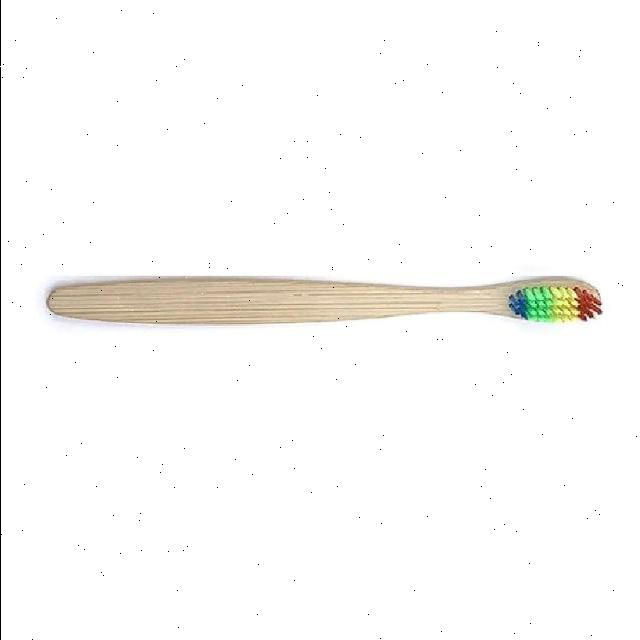toothbrush: (31, 236, 628, 372)
